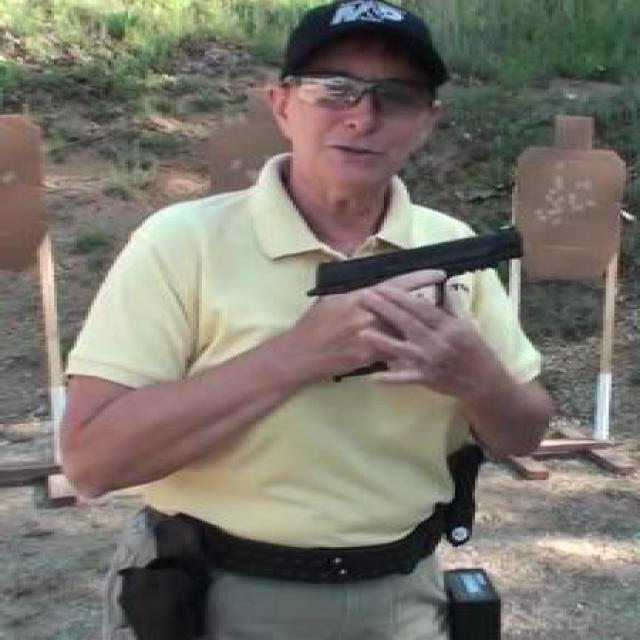gun: (304, 224, 520, 375)
